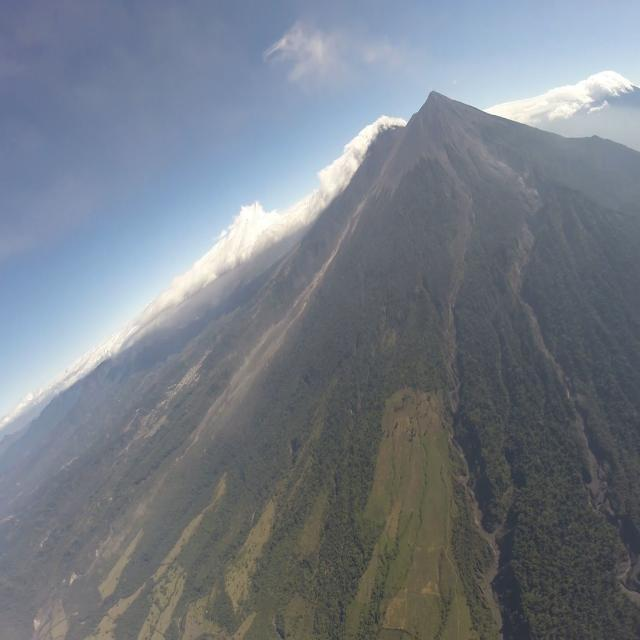Summit: (424, 88, 446, 102)
